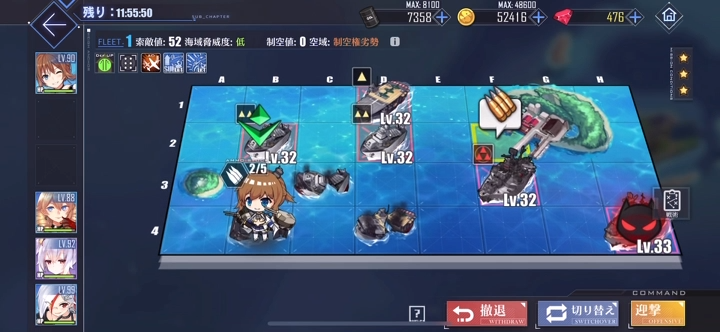boss: (603, 195, 671, 250)
lv3: (471, 143, 541, 200)
